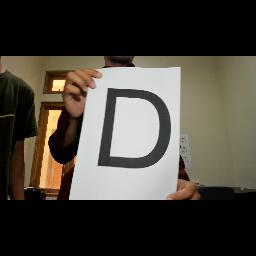d: (96, 85, 174, 173)
